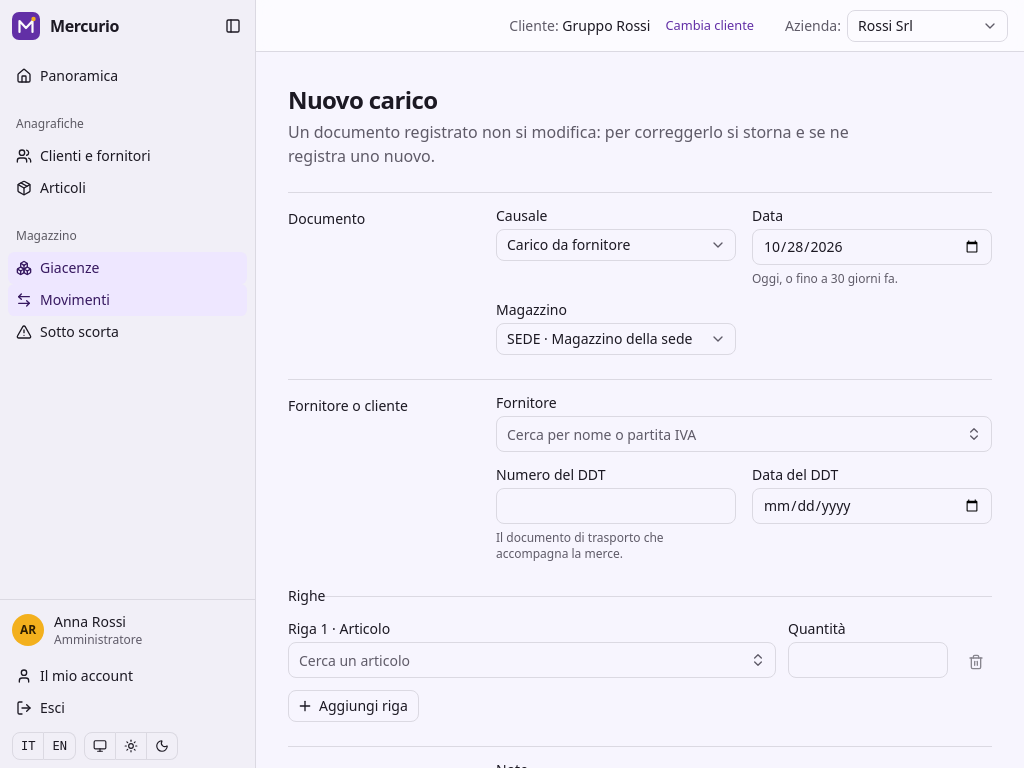
it: warehouse › asks the supplier of a receipt before sending it
Click the dropdown labelled "Riga 1 · Articolo".
click(532, 660)  # box [288,642,776,678]
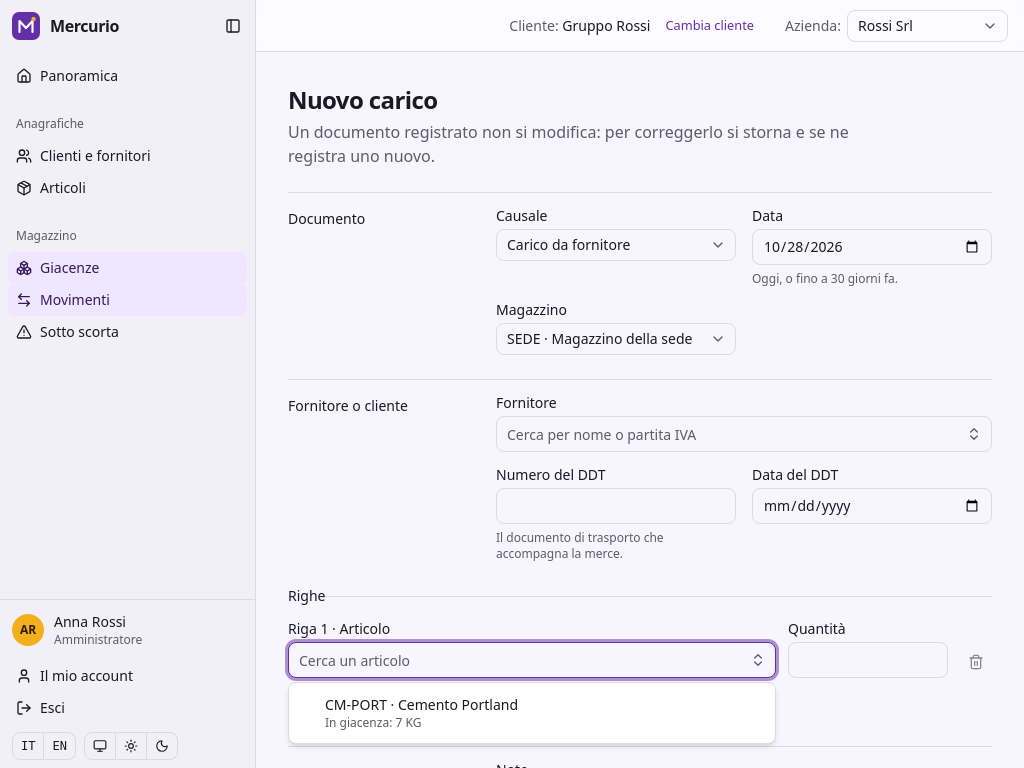
Click the option "CM-PORT · Cemento Portland In giacenza: 7 KG".
click(422, 713)  # box [325,695,518,731]
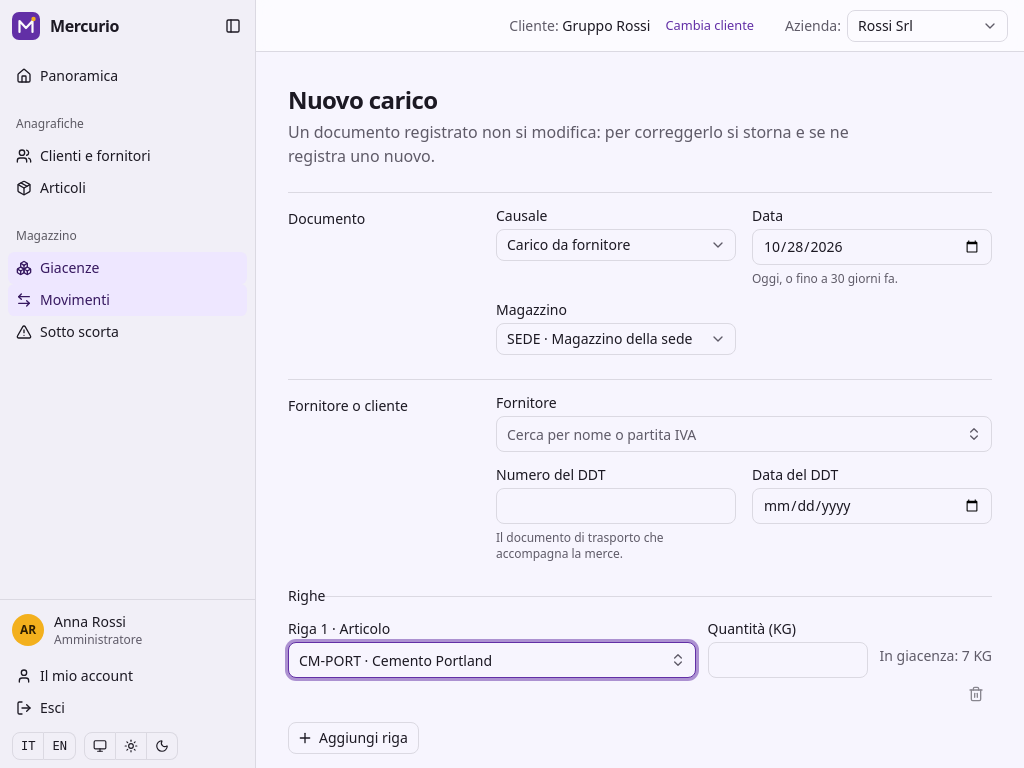
Type "1,2345" into the field labelled "Quantità (KG)".
click(788, 660); type("1,2345")  # box [708,642,868,678]
(page scrolled)
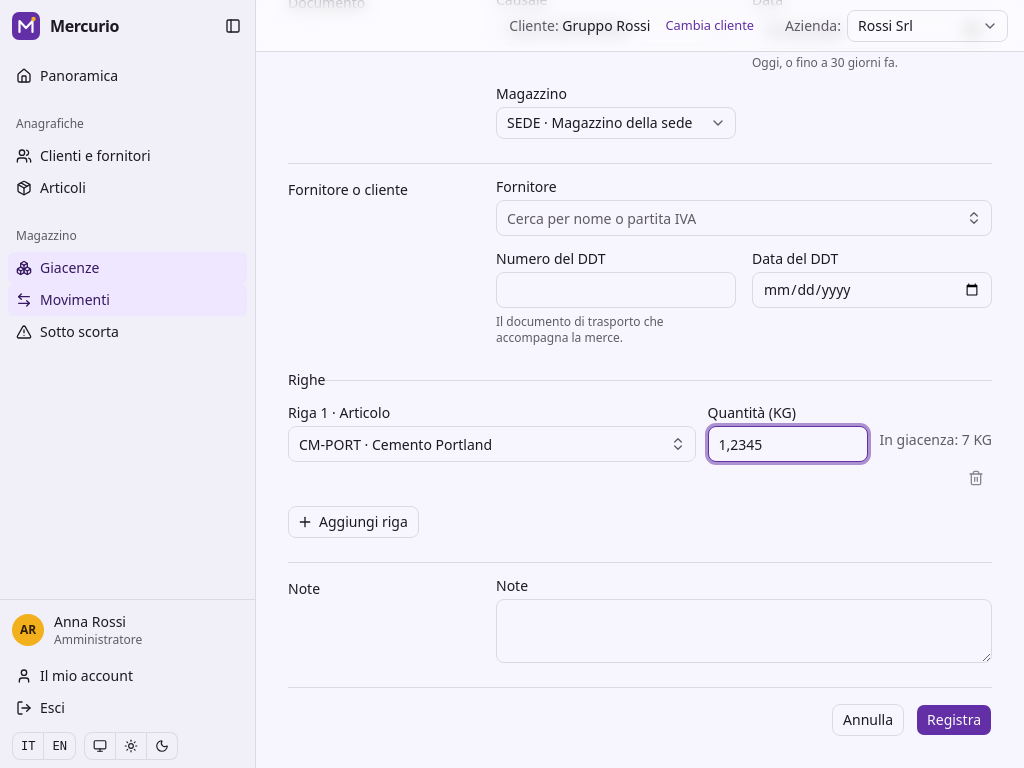
Click the button "Registra".
click(954, 720)  # box [916,704,992,736]
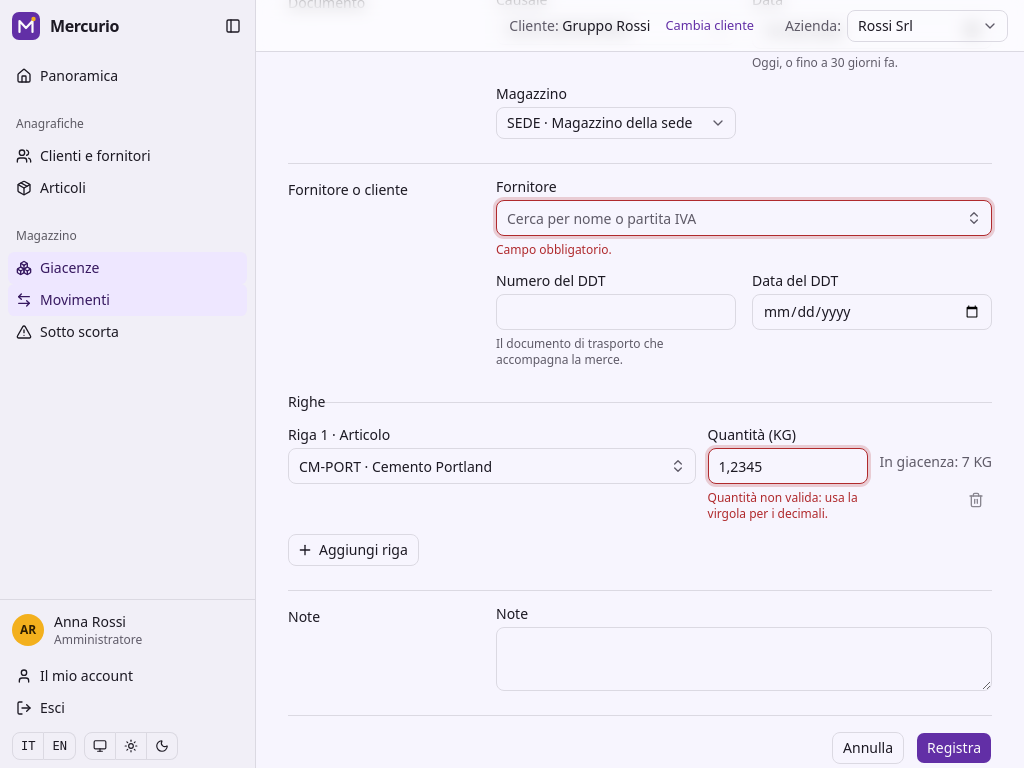
Check: the text "Campo obbligatorio." is shown, box [496,241,612,258]
Check: the text "Quantità non valida: usa la virgola per i decimali." is shown, box [708,490,868,522]
